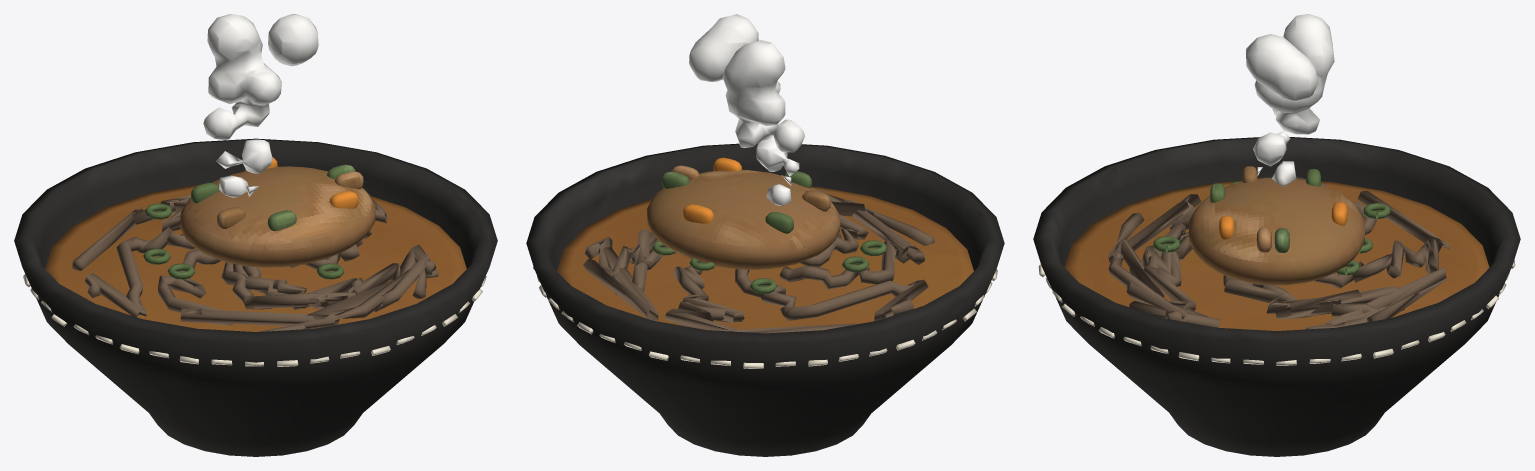
File: soba.glb
3 views of the same model, side by side, from view 1: azimuth 30°, elevation 25°; view 2: azimuth 150°, elevation 25°; view 3: azimuth 270°, elevation 25° (orthographic).
Parts seen in each view (by area): view 1: soba_felt_charcoal, soba_felt_broth, soba_yarn_soba, soba_felt_tan, soba_steam4, soba_felt_green, soba_thread, soba_felt_orange; view 2: soba_felt_charcoal, soba_felt_broth, soba_yarn_soba, soba_felt_tan, soba_steam4, soba_felt_green, soba_thread, soba_felt_orange; view 3: soba_felt_charcoal, soba_felt_broth, soba_yarn_soba, soba_felt_tan, soba_steam4, soba_felt_green, soba_thread, soba_felt_orange.
Boxes of the visible parts, x1,y1,x2,y2 form: soba_felt_charcoal: (14, 138, 497, 456); soba_felt_broth: (45, 184, 466, 331); soba_yarn_soba: (72, 195, 438, 331); soba_felt_tan: (180, 166, 375, 267); soba_steam4: (203, 14, 318, 197); soba_felt_green: (143, 164, 355, 279); soba_thread: (23, 274, 486, 366); soba_felt_orange: (245, 157, 358, 208); soba_felt_charcoal: (526, 143, 1004, 456); soba_felt_broth: (557, 186, 973, 329); soba_yarn_soba: (583, 190, 934, 333); soba_felt_tan: (647, 165, 840, 269); soba_steam4: (689, 14, 804, 205); soba_felt_green: (652, 171, 887, 293); soba_thread: (533, 266, 997, 368); soba_felt_orange: (683, 157, 741, 223); soba_felt_charcoal: (1033, 137, 1520, 456); soba_felt_broth: (1064, 181, 1489, 330); soba_yarn_soba: (1108, 176, 1449, 329); soba_felt_tan: (1189, 166, 1364, 285); soba_steam4: (1246, 14, 1334, 186); soba_felt_green: (1153, 169, 1390, 275); soba_thread: (1038, 259, 1515, 365); soba_felt_orange: (1219, 202, 1347, 239).
Bounding box in the file's own units: 0.285 × 0.2545 × 0.285.
8 materials, 4 textured.
